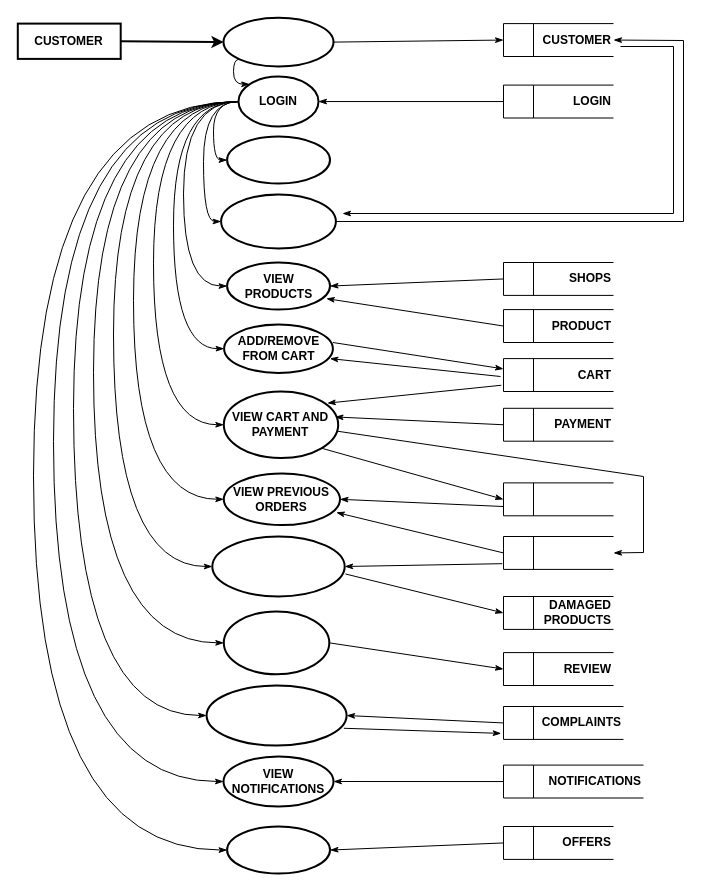
Image size: 710x892. Some labels were removed from this diagram. The centre of each missing label's shape, as x and y in pixels:
CHANGE PASSWORD: pixel 278 159
ORDER MAIN: pixel 558 552
ORDER SUB: pixel 558 499
REGISTRATION: pixel 278 41
RETURN DAMAGED PRODUCTS: pixel 278 566
SEND COMPLAINTS AND VIEW REPLY: pixel 276 715
SEND RATING AND REVIEW: pixel 276 642
VIEW AND EDIT PROFILE: pixel 278 221
VIEW OFFERS: pixel 278 849
